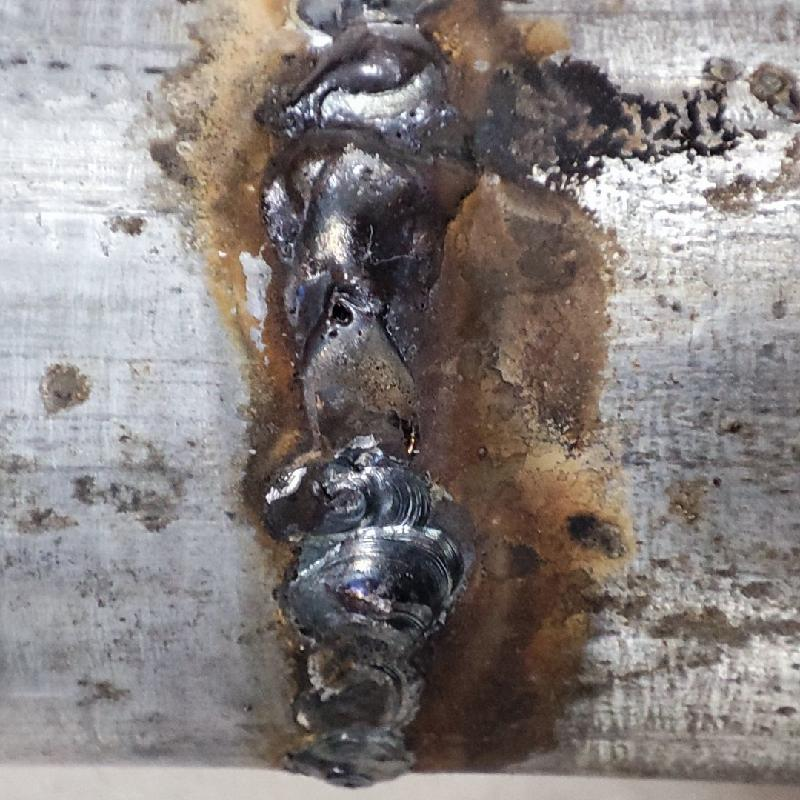Not_fully_soldered: (287, 295, 432, 528)
Surface_pores: (303, 286, 382, 348)
Weld: (283, 19, 457, 303)
wrong_size: (278, 537, 455, 784)
